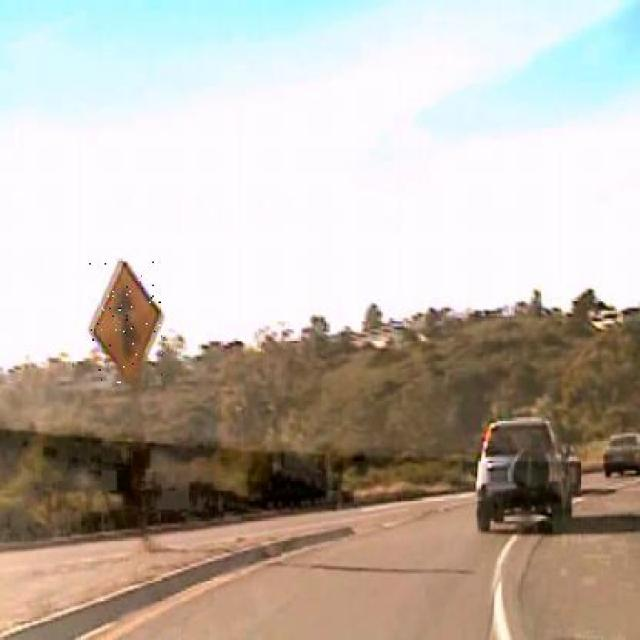merge: (89, 260, 163, 385)
